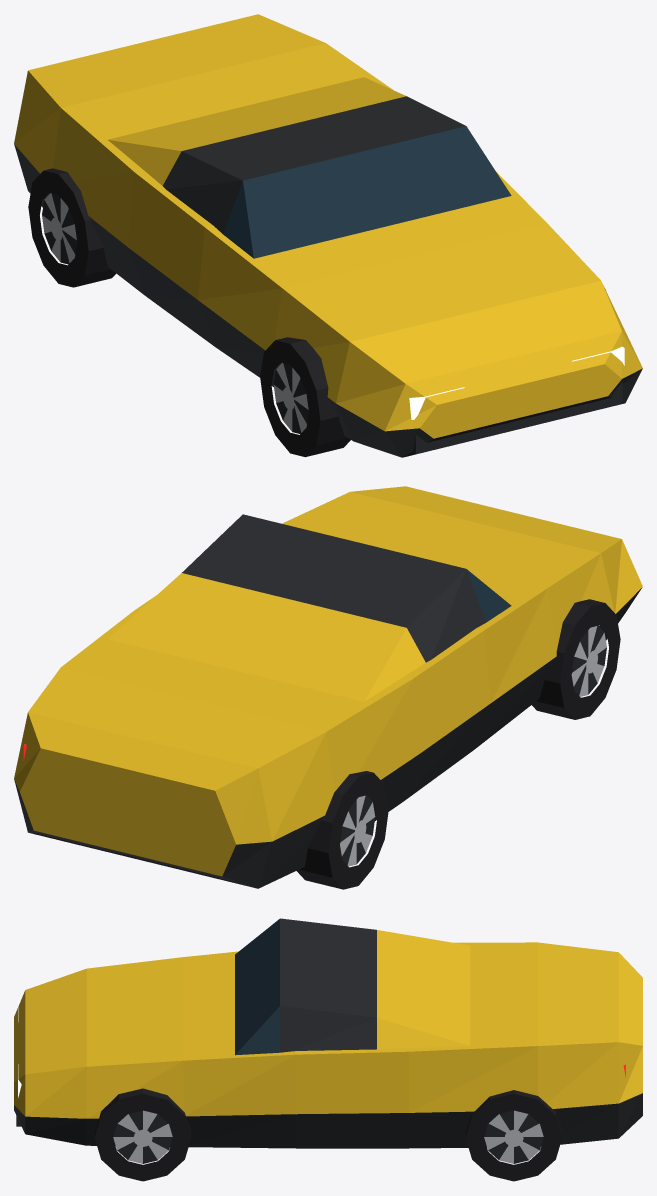
The model's file is brisk-roadster.gltf.
3 views of the same model, one above another, from view 1: azimuth 30°, elevation 25°; view 2: azimuth 150°, elevation 25°; view 3: azimuth 270°, elevation 25° (orthographic). The views are drawn at different scales.
Parts seen in each view (by area): view 1: body, wheel_fr, wheel_rr; view 2: body, wheel_rr, wheel_fr; view 3: body, wheel_fl, wheel_rl.
Boxes of the visible parts, x1,y1,x2,y2 form: body: (14, 14, 642, 457); wheel_fr: (260, 337, 350, 457); wheel_rr: (28, 168, 115, 287); body: (14, 486, 642, 888); wheel_rr: (296, 771, 388, 889); wheel_fr: (532, 599, 620, 719); body: (14, 918, 642, 1148); wheel_fl: (94, 1088, 191, 1181); wheel_rl: (465, 1090, 562, 1181).
Size of the model in its own units: 1.74 by 1.1 by 3.9.
